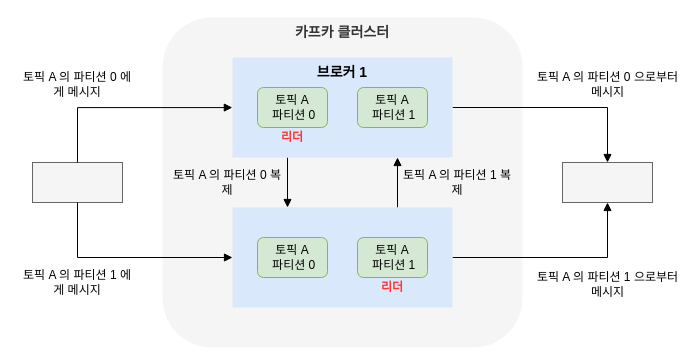
This 697x364 diagram has some shape labels left out. The box of each missing label's shape, as (x1, y1, x2, y2) in pixels:
브로커 2: (232, 207, 452, 307)
컨슈머: (562, 162, 652, 202)
프로듀서: (32, 162, 122, 202)
